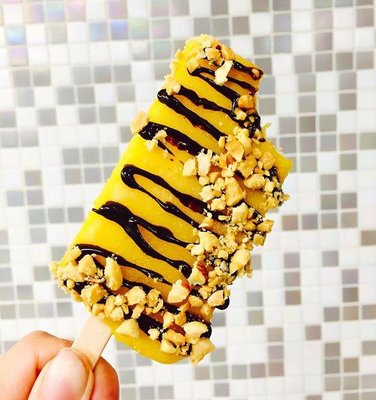burger: (50, 32, 294, 367)
sushi: (48, 33, 294, 394)
